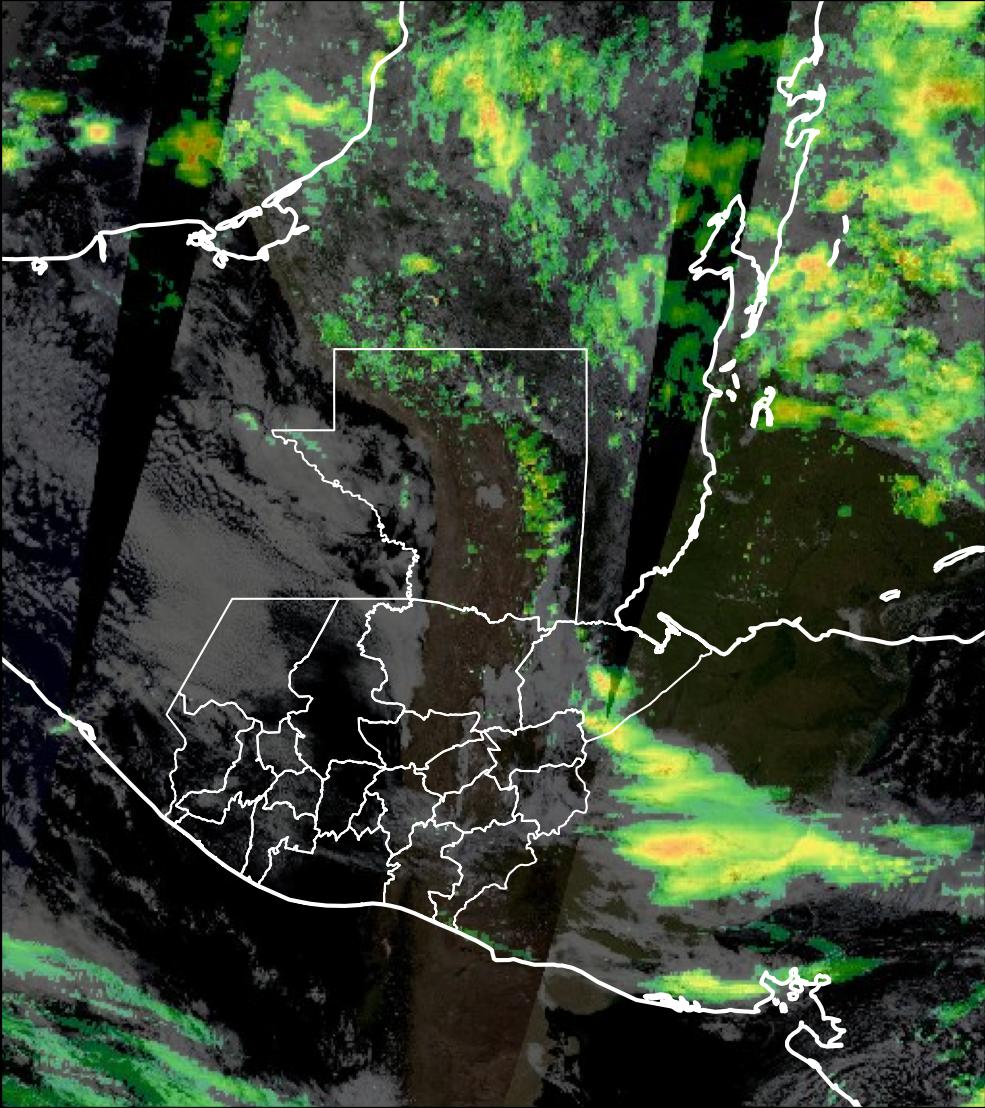precipitacion: (632, 831, 730, 902)
